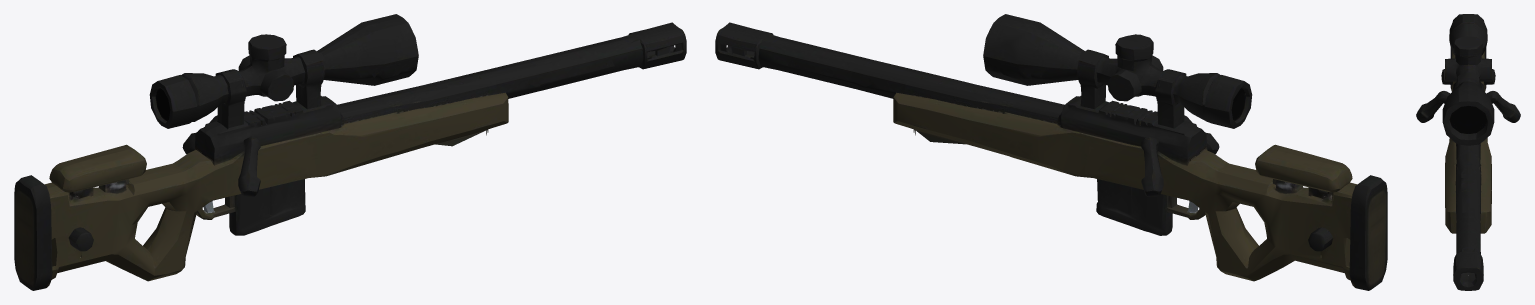
File: bolt_action_sniper_rifle.glb
3 renders of one model, left to right at view 1: azimuth 30°, elevation 25°; view 2: azimuth 150°, elevation 25°; view 3: azimuth 270°, elevation 25°, orthographic. The views are drawn at different scales.
Visible parts, largest first — view 1: world; view 2: world; view 3: world.
Part boxes in pixels (x1,y1,x2,y2): world: (14,14,686,290); world: (715,14,1387,290); world: (1416,14,1520,290).
Size of the model in its own units: 1 by 0.3029 by 0.1762.
1 material, 1 textured.
